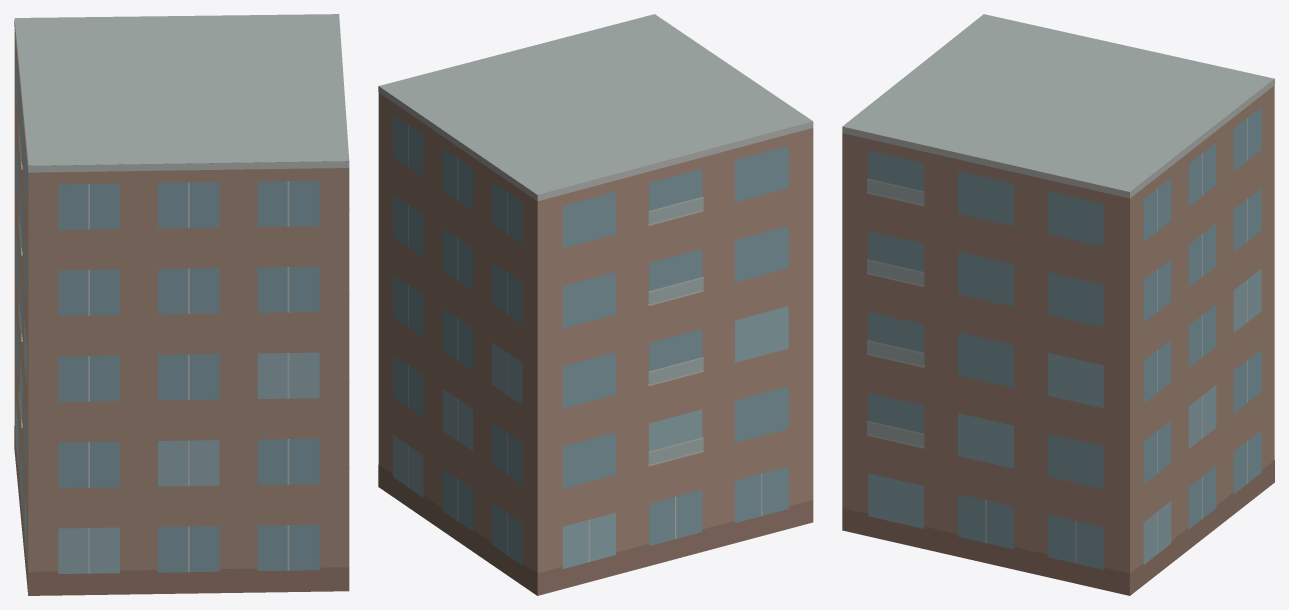
The model's file is survey-upis-32947846.glb.
The picture shows the model from 3 angles, left to right: view 1: azimuth 30°, elevation 25°; view 2: azimuth 150°, elevation 25°; view 3: azimuth 270°, elevation 25°; orthographic projection. The views are drawn at different scales.
Parts seen in each view (by area): view 1: survey-upis-32947846.tmp; view 2: survey-upis-32947846.tmp; view 3: survey-upis-32947846.tmp.
Part boxes in pixels (bbox=[...]): survey-upis-32947846.tmp: bbox=[14, 14, 349, 595]; survey-upis-32947846.tmp: bbox=[378, 14, 813, 595]; survey-upis-32947846.tmp: bbox=[842, 14, 1274, 595].
Bounding box in the file's own units: 14.43 × 15.25 × 14.81.
